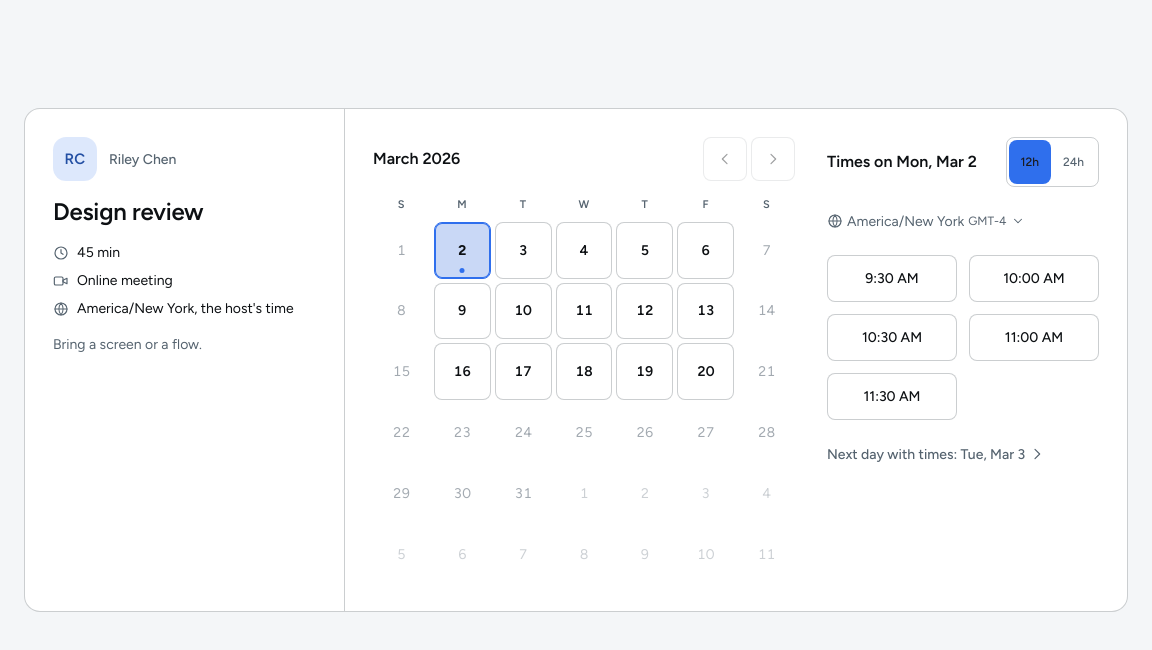
Test: the details step renders byte for byte › light
Click the button with class "bp-slot" showing "9:30 AM": (892, 279) [827,255,957,302]
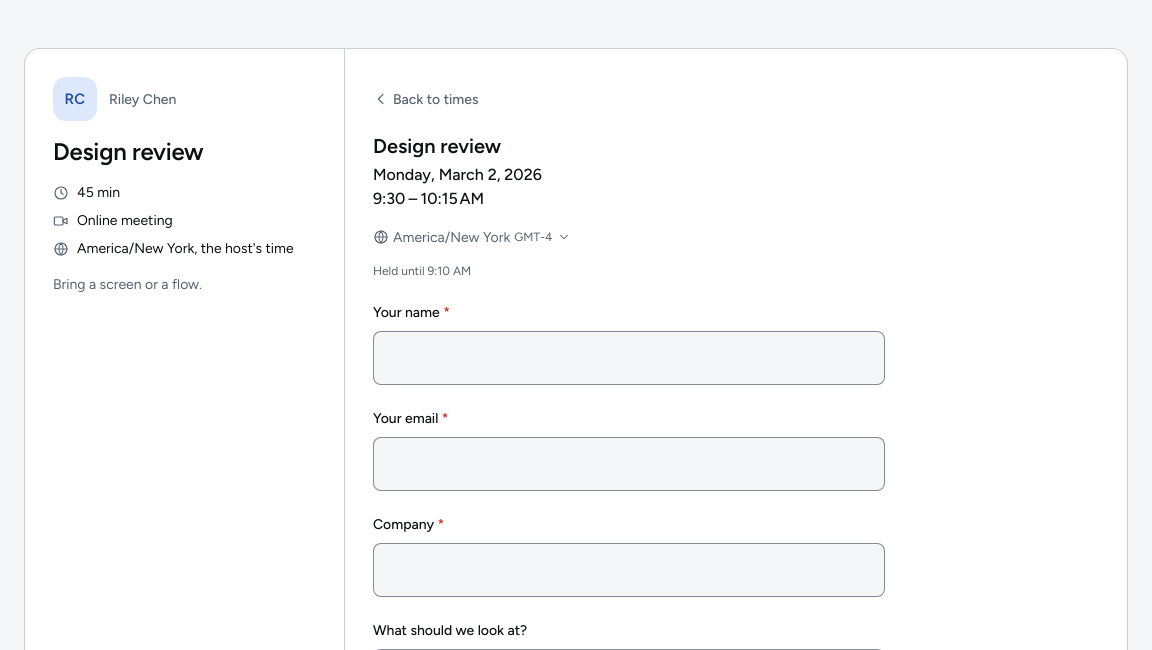
Result: the field named "name" is shown at [373,331,885,385]
